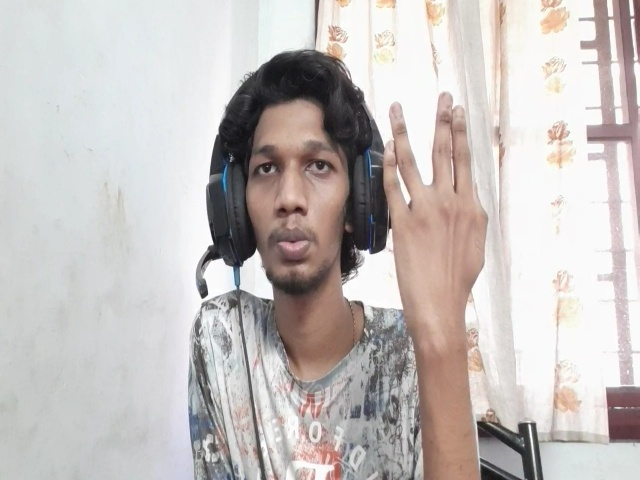LiveLong: (382, 91, 487, 317)
